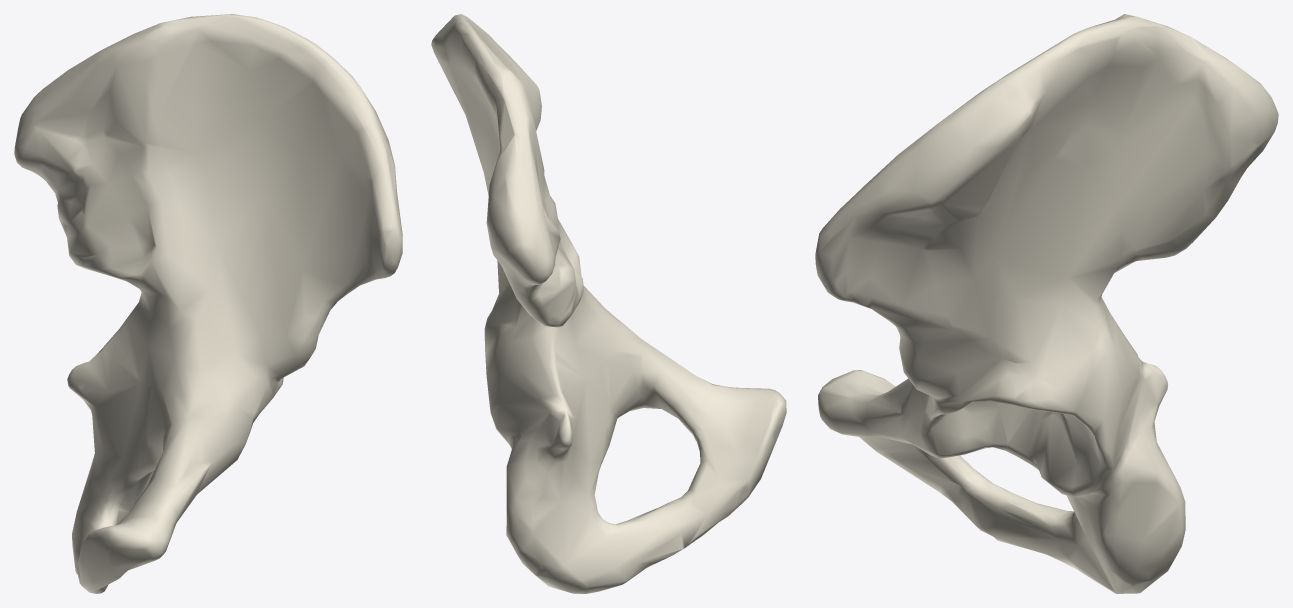
3 views of the same model, side by side, from view 1: azimuth 30°, elevation 25°; view 2: azimuth 150°, elevation 25°; view 3: azimuth 270°, elevation 25° (orthographic). The views are drawn at different scales.
Visible parts, largest first — view 1: ZA_5904807f8c7d2c23; view 2: ZA_5904807f8c7d2c23; view 3: ZA_5904807f8c7d2c23.
Part boxes in pixels (x1,y1,x2,y2): ZA_5904807f8c7d2c23: [14, 14, 402, 593]; ZA_5904807f8c7d2c23: [431, 14, 786, 593]; ZA_5904807f8c7d2c23: [815, 14, 1278, 593].
Size of the model in its own units: 0.132 by 0.2146 by 0.1429.
